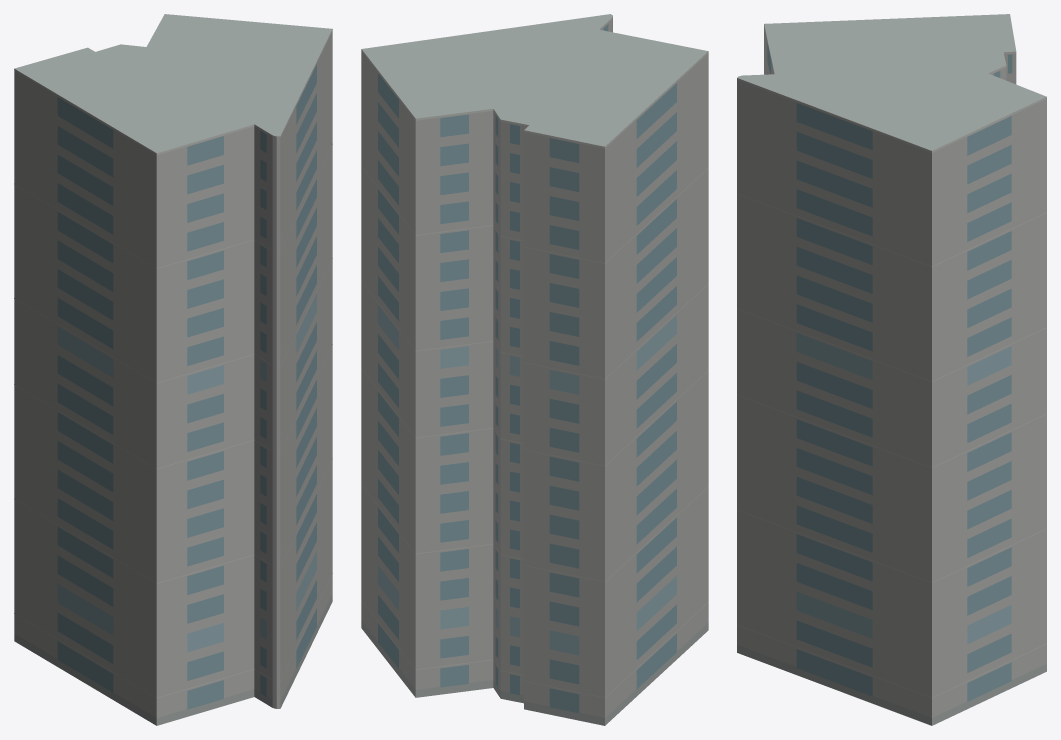
The model's file is survey-upis-32627068.glb.
3 renders of one model, left to right at view 1: azimuth 30°, elevation 25°; view 2: azimuth 150°, elevation 25°; view 3: azimuth 270°, elevation 25°, orthographic.
Parts seen in each view (by area): view 1: survey-upis-32627068.tmp; view 2: survey-upis-32627068.tmp; view 3: survey-upis-32627068.tmp.
Boxes of the visible parts, x1,y1,x2,y2 form: survey-upis-32627068.tmp: (14, 14, 332, 725); survey-upis-32627068.tmp: (361, 14, 708, 725); survey-upis-32627068.tmp: (737, 14, 1046, 725).
Bounding box in the file's own units: 34.72 × 67.9 × 33.17.
